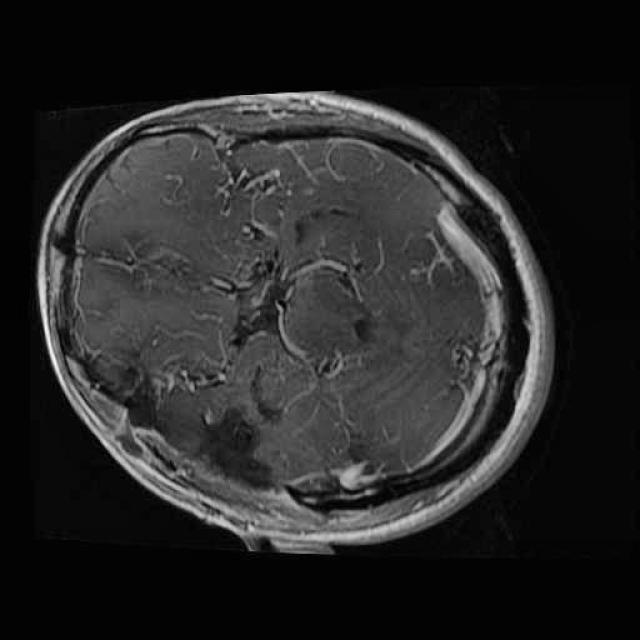Tumor: (190, 388, 284, 502)
